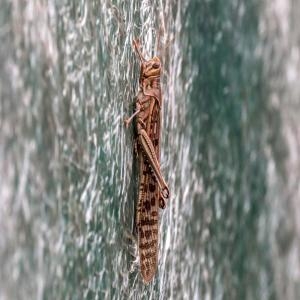locust: (129, 26, 176, 300)
